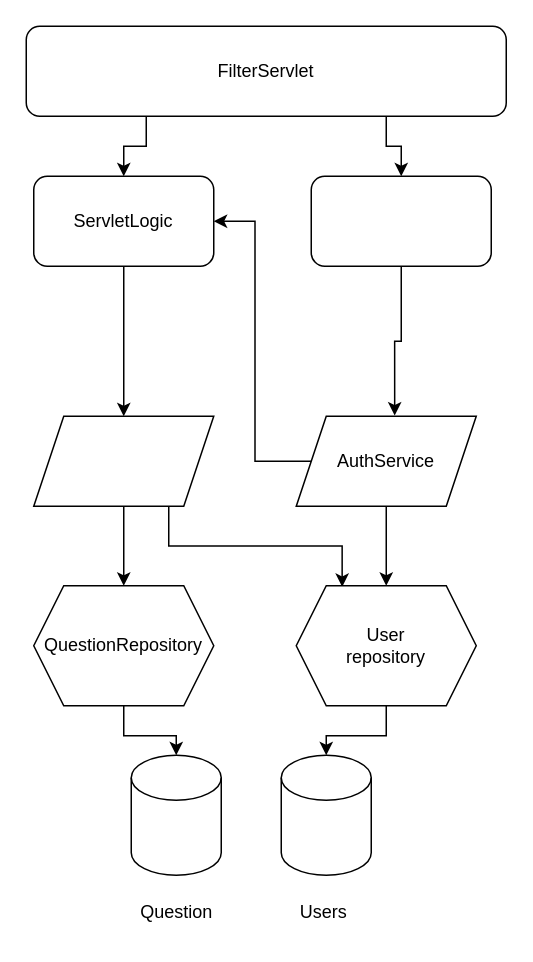
The diagram is 533 pixels wide and 962 high, and some of its shapes have lost their labels. Each missing label, with the centre of its shape:
"LogicService" goes at point (123, 460).
"ServletAuth" goes at point (400, 220).
